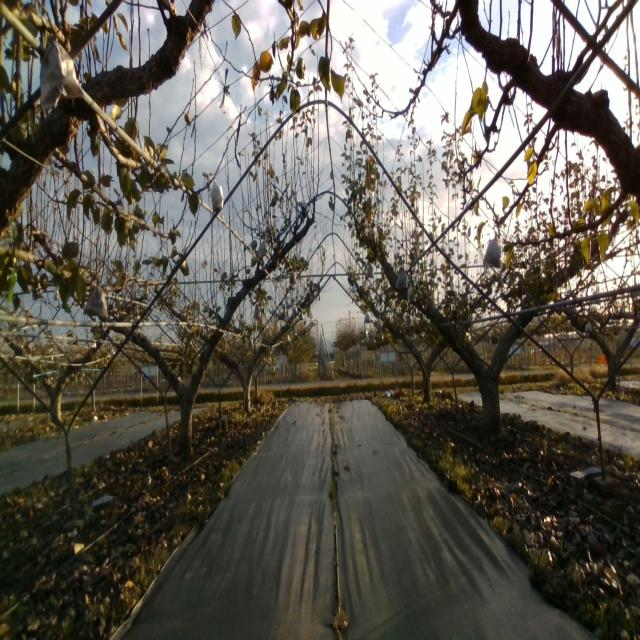pearbags: (40, 34, 85, 110), (211, 176, 225, 212), (258, 236, 270, 261), (396, 268, 409, 289)
